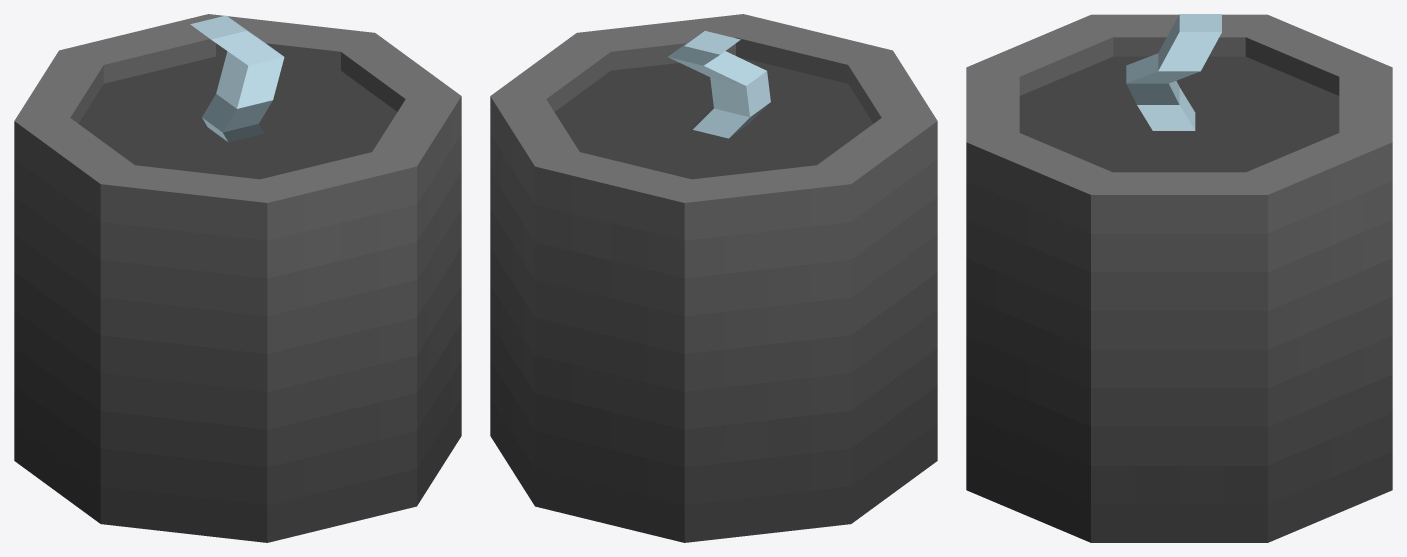
The model's file is bom.fbx.
3 renders of one model, left to right at view 1: azimuth 30°, elevation 25°; view 2: azimuth 150°, elevation 25°; view 3: azimuth 270°, elevation 25°, orthographic. The views are drawn at different scales.
Parts seen in each view (by area): view 1: cylinder, cuboid; view 2: cylinder, cuboid; view 3: cylinder, cuboid.
Boxes of the visible parts, x1,y1,x2,y2 form: cylinder: (14,14,461,542); cuboid: (190,15,284,142); cylinder: (490,14,937,542); cuboid: (668,31,770,138); cylinder: (966,14,1392,542); cuboid: (1126,14,1221,130).
Size of the model in its own units: 62.5 by 68.75 by 62.5.
